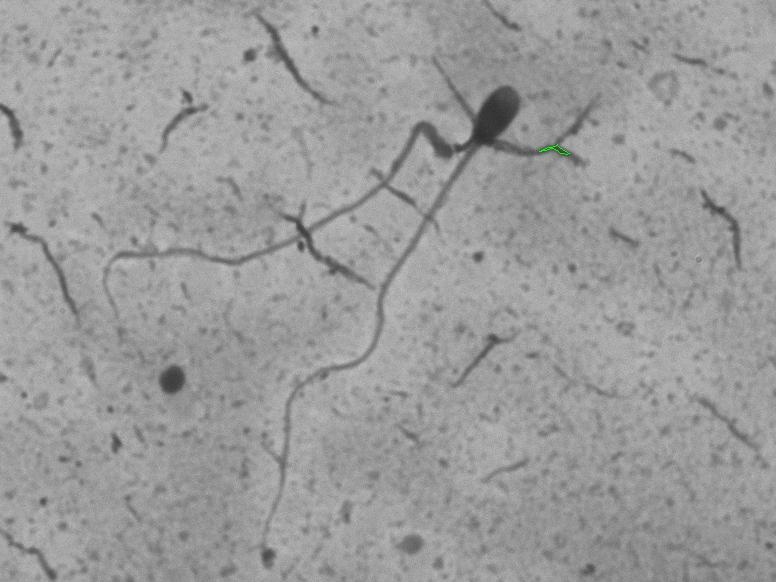Normal: (244, 73, 537, 553)
